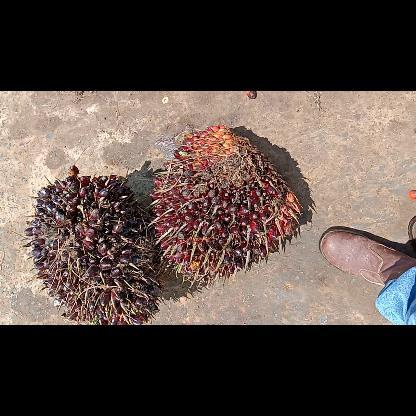TBS mentah: (146, 123, 304, 285), (22, 166, 160, 324)
